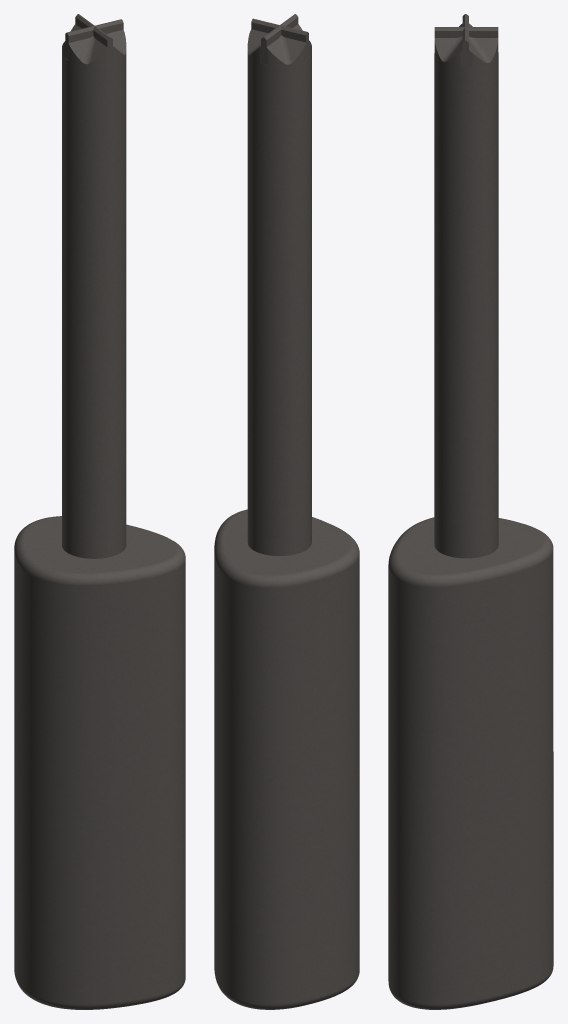
The model's file is cross.glb.
The picture shows the model from 3 angles, left to right: view 1: azimuth 30°, elevation 25°; view 2: azimuth 150°, elevation 25°; view 3: azimuth 270°, elevation 25°; orthographic projection.
Bounding box in the file's own units: 0.0334 × 0.2191 × 0.0344.
Materials: 1 (1 with a texture image).
